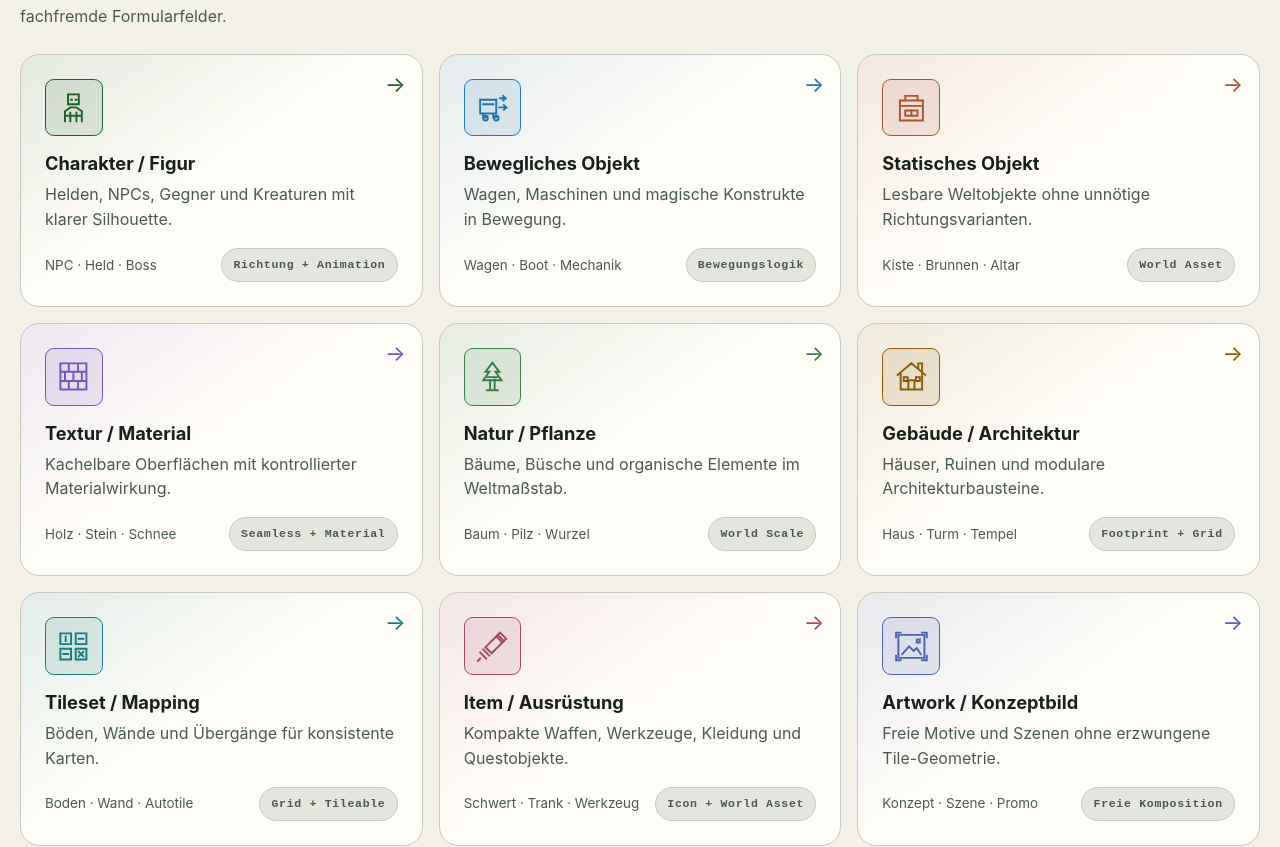
Prompt-only application shell › carries a dashboard category into the visible Wizard
(page scrolled)
Click the button named "Textur / Material als neues Asset erstellen".
click(202, 357)  # box 20,323 -> 423,576
(page scrolled)
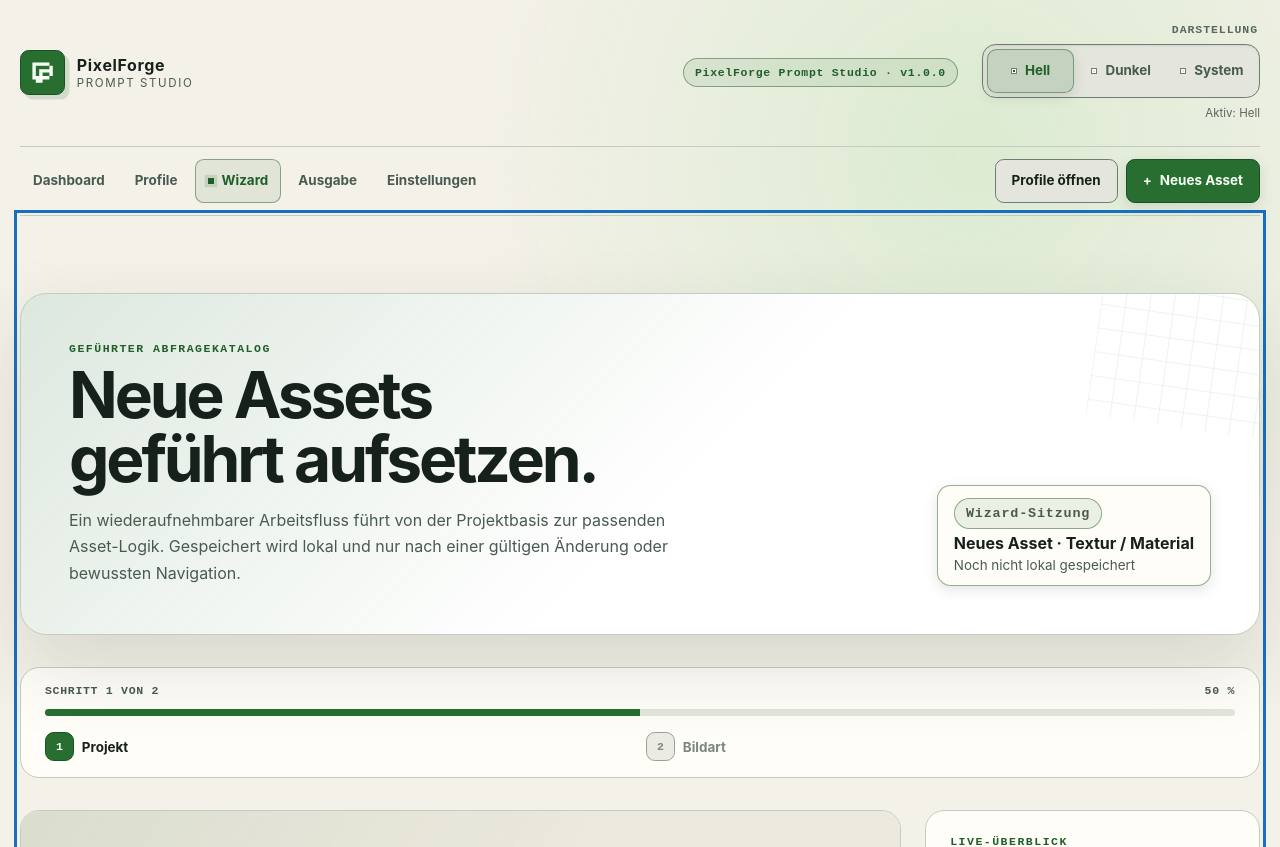
Expected: the text "Neues Asset · Textur / Material" is shown, 954,533 -> 1194,553
